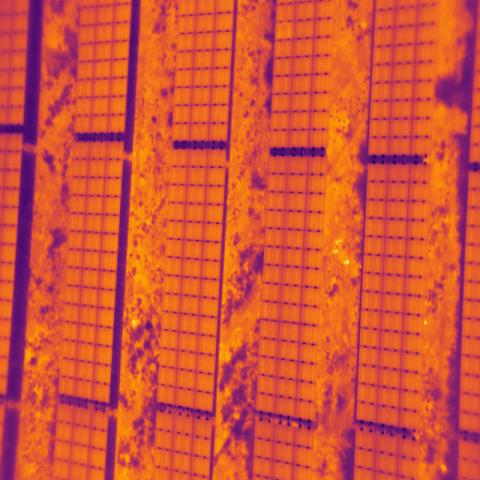fault: (274, 21, 295, 41)
